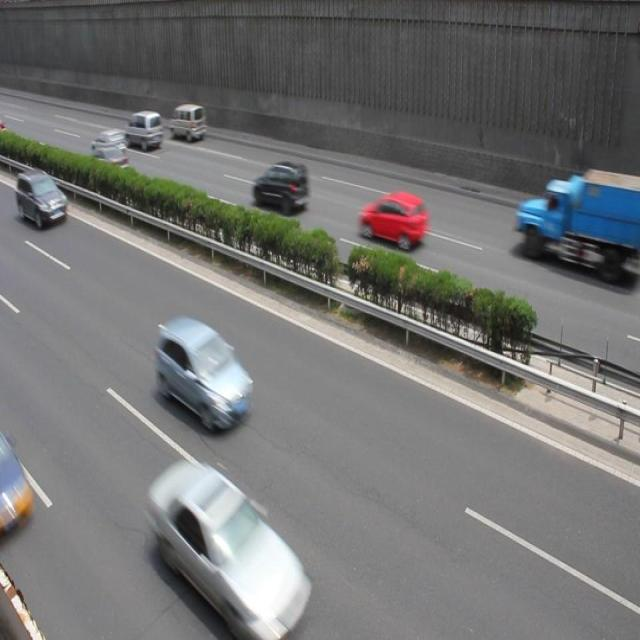bus: (513, 169, 640, 278)
car: (148, 461, 314, 618), (156, 318, 255, 431), (358, 191, 427, 251), (17, 170, 68, 231), (252, 160, 309, 212), (89, 145, 130, 181), (91, 127, 126, 157)
truck: (123, 112, 163, 150), (168, 104, 207, 142)
